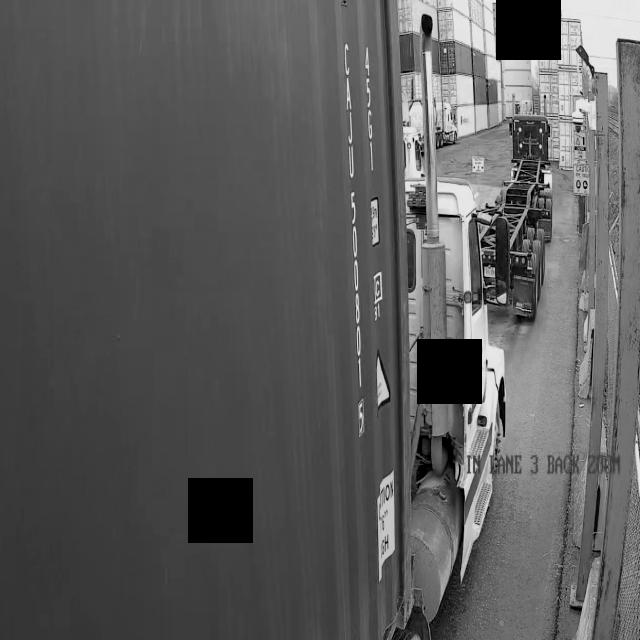container_side_no: (337, 17, 368, 444)
truck_with_container: (0, 0, 503, 640)
truck_without_container: (481, 156, 552, 319), (510, 118, 546, 155)
